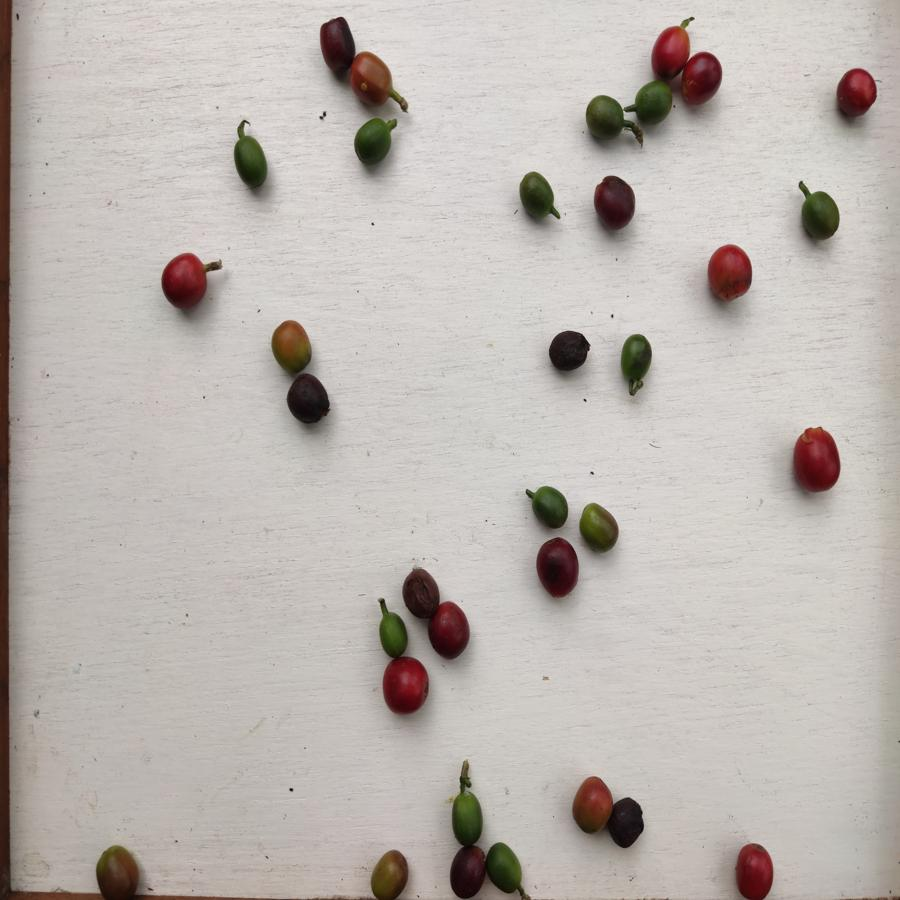Inmaduro: (351, 116, 400, 171), (798, 189, 843, 248), (517, 170, 563, 222), (232, 132, 271, 193), (486, 838, 526, 894), (619, 333, 656, 392), (582, 94, 628, 138), (451, 788, 486, 845), (529, 483, 570, 530), (373, 609, 409, 658), (632, 82, 673, 125)
Maduro: (792, 426, 847, 498), (161, 251, 210, 313), (728, 843, 782, 899), (381, 656, 433, 714), (705, 244, 752, 308), (832, 67, 882, 121), (647, 21, 689, 77)
Pinton: (91, 842, 144, 899), (349, 49, 397, 108), (568, 774, 613, 835), (267, 316, 314, 373), (579, 498, 621, 551), (368, 850, 412, 900)
Sobremaduro: (533, 536, 583, 601), (593, 171, 639, 235), (428, 598, 473, 663), (285, 373, 336, 430), (314, 12, 353, 82), (443, 844, 488, 899), (399, 564, 442, 619), (682, 52, 724, 108), (548, 328, 589, 378), (610, 796, 645, 849)
